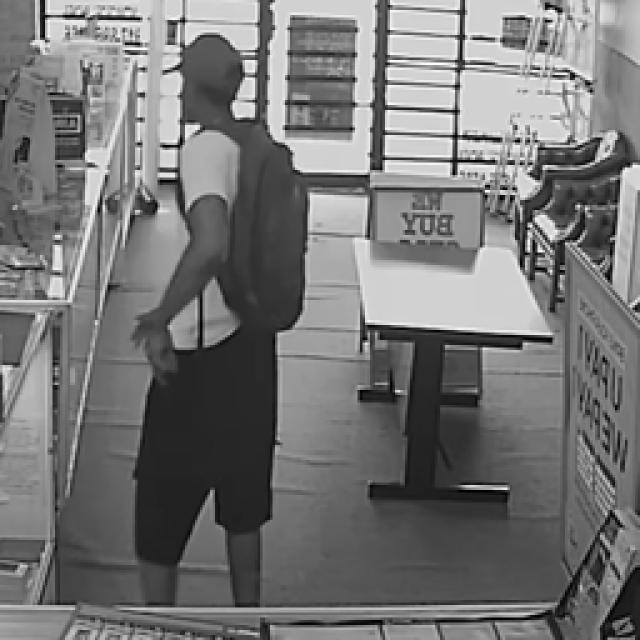Invader: (128, 30, 308, 605)
